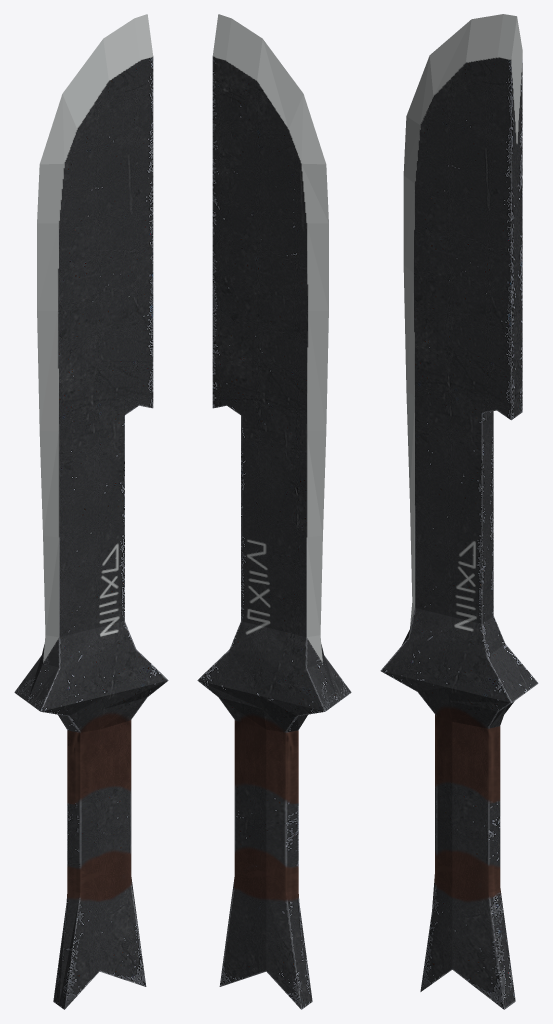
File: Big Knife.fbx
3 renders of one model, left to right at view 1: azimuth 30°, elevation 25°; view 2: azimuth 150°, elevation 25°; view 3: azimuth 330°, elevation 25°, orthographic. The views are drawn at different scales.
Parts seen in each view (by area): view 1: Big_Knife; view 2: Big_Knife; view 3: Big_Knife.
Part boxes in pixels (x1=…): Big_Knife: x1=14, y1=14, x2=168, y2=1009; Big_Knife: x1=197, y1=14, x2=351, y2=1009; Big_Knife: x1=380, y1=14, x2=538, y2=1009.
Size of the model in its own units: 50.98 by 368 by 18.05.
